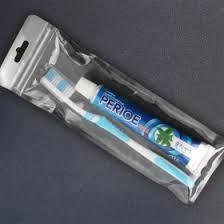toothpaste: (76, 73, 218, 180)
